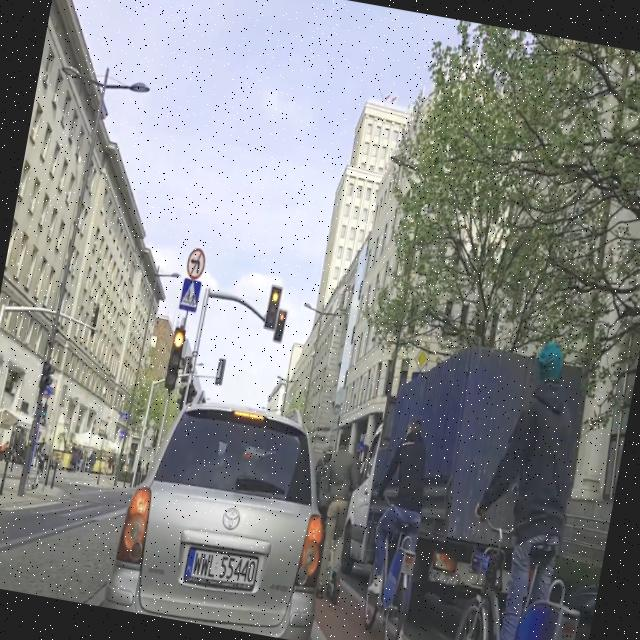Droga z pierwszenstwem: (411, 345, 430, 374)
